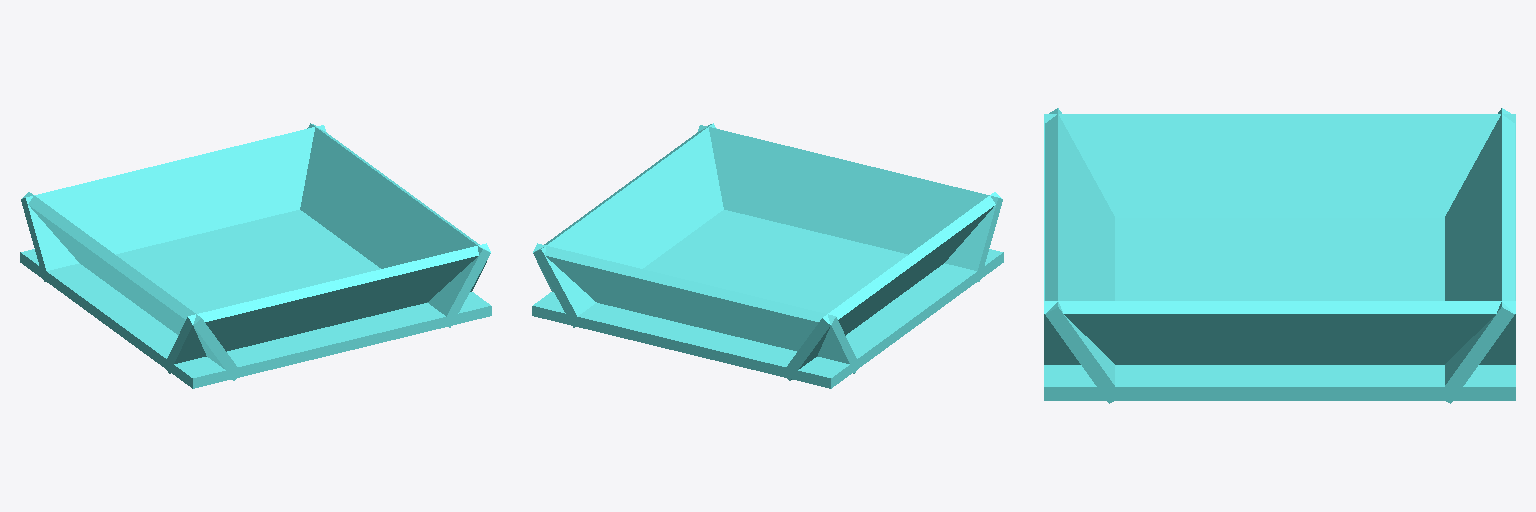
robot.urdf — tray_test:
<?xml version="1.0" ?>
<!-- based on: traybox.urdf -->
<robot name="tray_test">
  <material name="tray_material">
    <color rgba="0.5 1 1 1"/>
  </material>

  <link name="base_link">
    <inertial>
      <origin rpy="0 0 0" xyz="0 0 0"/>
      <mass value="0"/>
      <inertia ixx="0" ixy="0" ixz="0" iyy="0" iyz="0" izz="0"/>
    </inertial>
    <!--<visual>
      <origin rpy="0 0 0" xyz="0 0 0"/>
      <geometry>
        <mesh filename="tray_textured.obj" scale="0.5 0.5 0.5"/>
      </geometry>
      <material name="tray_material"><color rgba="1 1 1 1"/></material>
    </visual>-->

    <visual>
      <origin rpy="0 0 0" xyz="0 0 0.005"/>
      <geometry><box size=".6 .6 .02"/></geometry>
      <material name="tray_material"/>
    </visual>
    <visual>
      <origin rpy="0 0.575469961 0" xyz="0.25 0 0.059"/>
      <geometry><box size=".02 .6 .15"/></geometry>
      <material name="tray_material"/>
    </visual>
    <visual>
      <origin rpy="0 -0.575469961 0" xyz="-0.25 0 0.059"/>
      <geometry><box size=".02 .6 .15"/></geometry>
      <material name="tray_material"/>
    </visual>
    <visual>
      <origin rpy="0.575469961 0 0" xyz="0 -0.25 0.059"/>
      <geometry><box size=".6 .02 .15"/></geometry>
      <material name="tray_material"/>
    </visual>
    <visual>
      <origin rpy="-0.575469961 0 0" xyz="0 0.25 0.059"/>
      <geometry><box size=".6 .02 .15"/></geometry>
      <material name="tray_material"/>
    </visual>


    <collision>
      <origin rpy="0 0 0" xyz="0 0 0.005"/>
      <geometry><box size=".6 .6 .02"/></geometry>
    </collision>
    <collision>
      <origin rpy="0 0.575469961 0" xyz="0.25 0 0.059"/>
      <geometry><box size=".02 .6 .15"/></geometry>
    </collision>
    <collision>
      <origin rpy="0 -0.575469961 0" xyz="-0.25 0 0.059"/>
      <geometry><box size=".02 .6 .15"/></geometry>
    </collision>
    <collision>
      <origin rpy="0.575469961 0 0" xyz="0 -0.25 0.059"/>
      <geometry><box size=".6 .02 .15"/></geometry>
    </collision>
    <collision>
      <origin rpy="-0.575469961 0 0" xyz="0 0.25 0.059"/>
      <geometry><box size=".6 .02 .15"/></geometry>
    </collision>

  </link>
</robot>

--- Render facts (derived) ---
3 views of the same robot in one strip: view 1: azimuth 30°, elevation 25°; view 2: azimuth 150°, elevation 25°; view 3: azimuth 270°, elevation 25° (orthographic).
Robot: tray_test — 1 links, 0 joints (none); root link base_link; default pose: every joint at zero.
Visible links, largest first — view 1: base_link; view 2: base_link; view 3: base_link.
Boxes of the visible links, x1,y1,x2,y2 form: base_link: (20, 123, 491, 388); base_link: (532, 123, 1003, 388); base_link: (1044, 108, 1515, 403).
Bounding box of the posed robot: 0.6 × 0.6 × 0.1367 m (x, y, z).
Geometry: primitives only (box / cylinder / sphere), no mesh files.